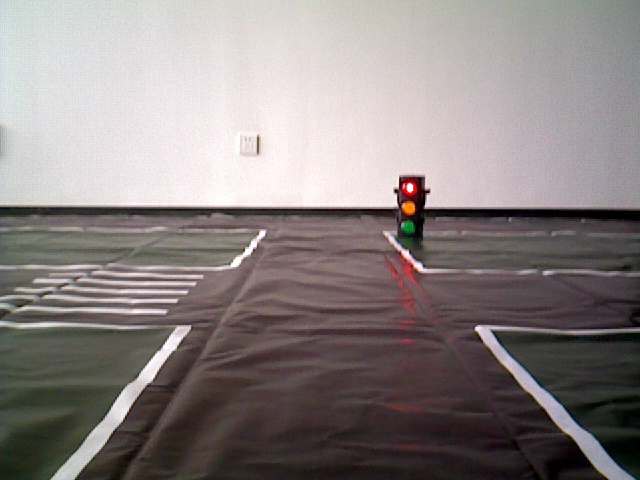red: (394, 176, 421, 237)
